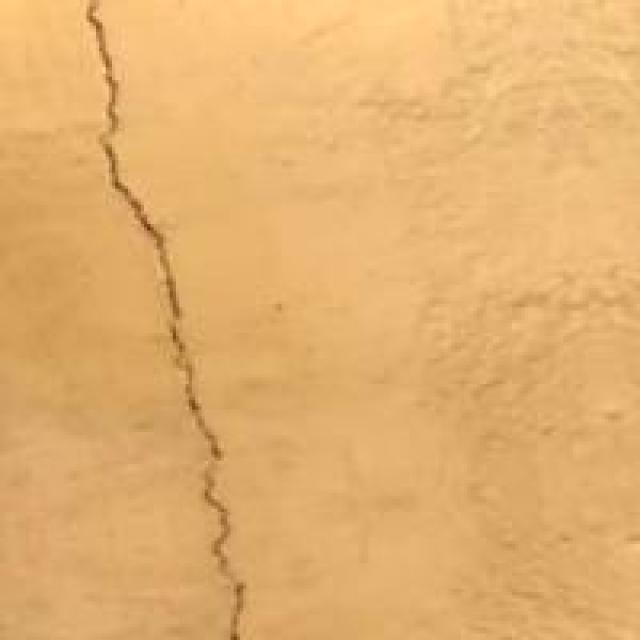crack: (68, 0, 284, 640)
